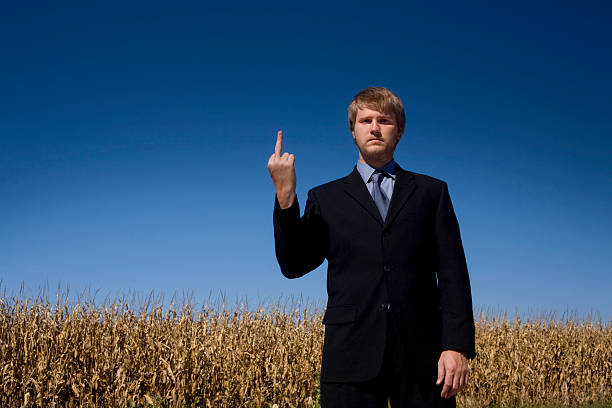insulting_gesture: (263, 128, 297, 196)
